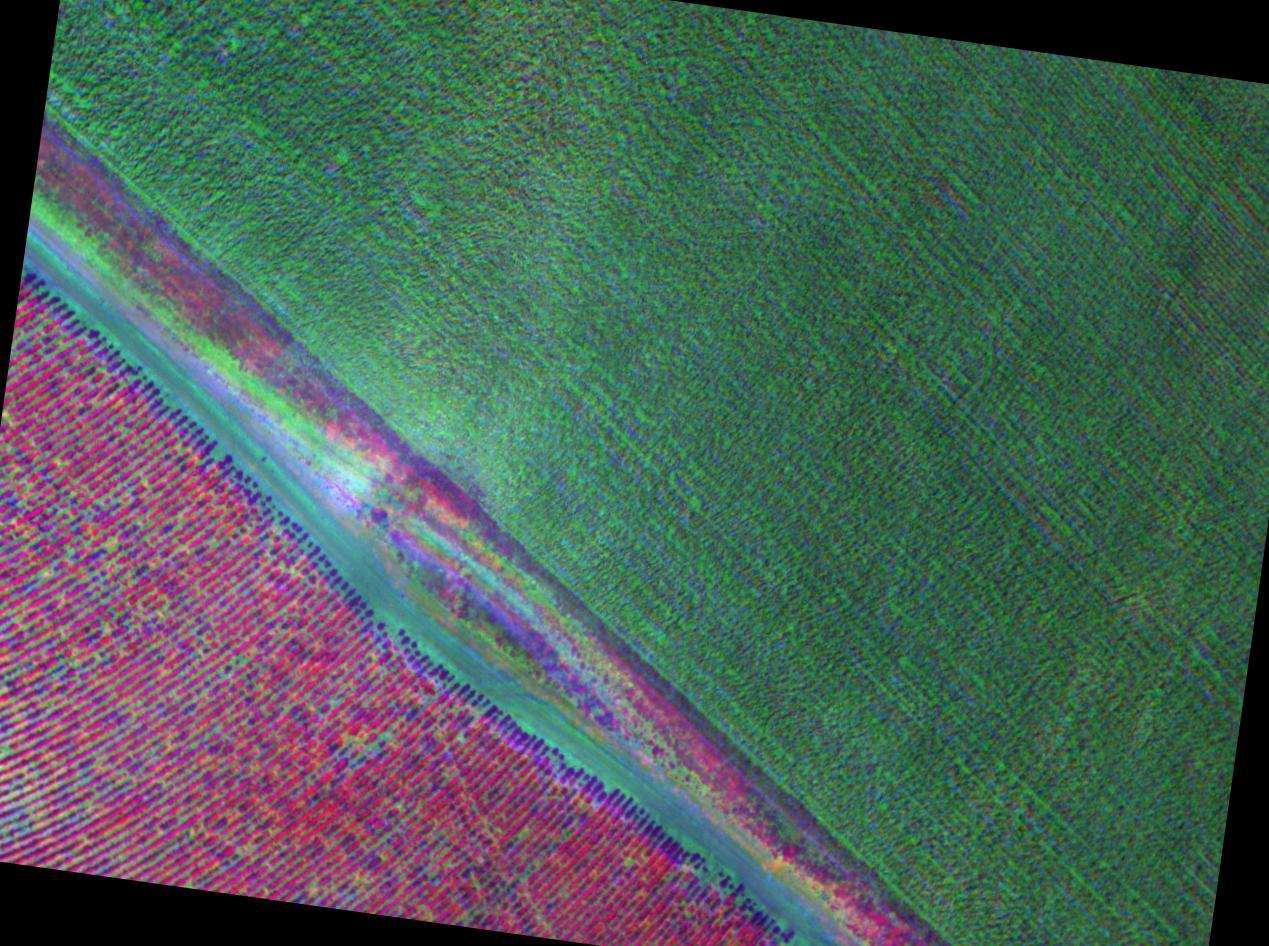dc: (1, 743, 76, 847), (171, 610, 258, 696), (0, 593, 63, 671), (308, 730, 401, 776), (71, 490, 131, 555)
